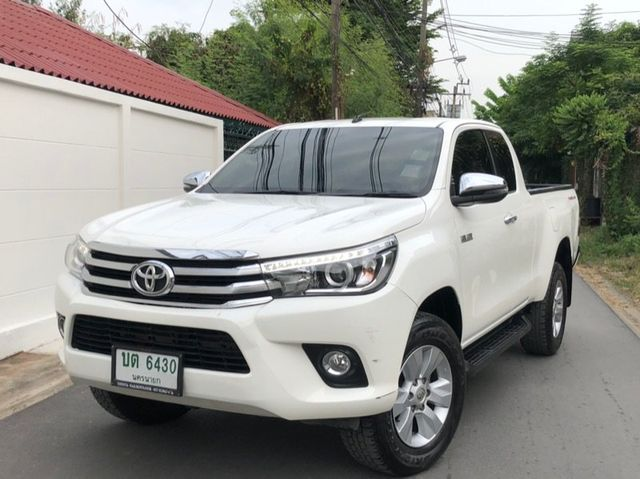pickup: (51, 110, 583, 474)
